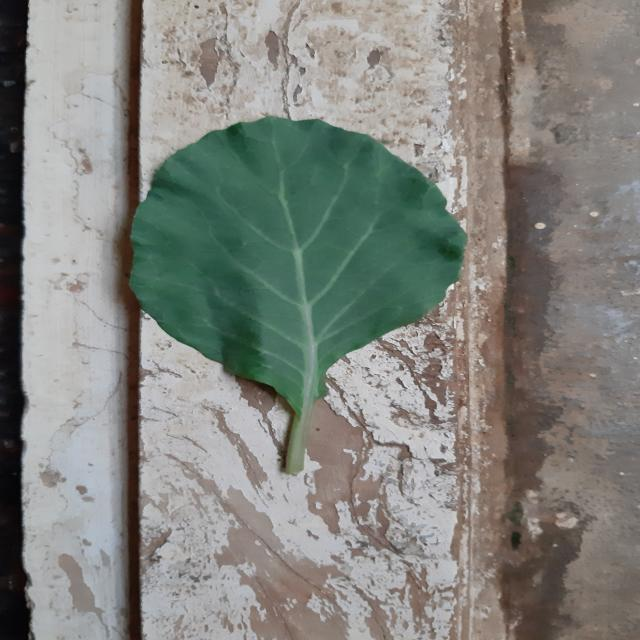Kohlrabi: (131, 116, 467, 474)
